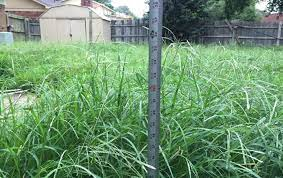grass: (2, 50, 283, 178)
